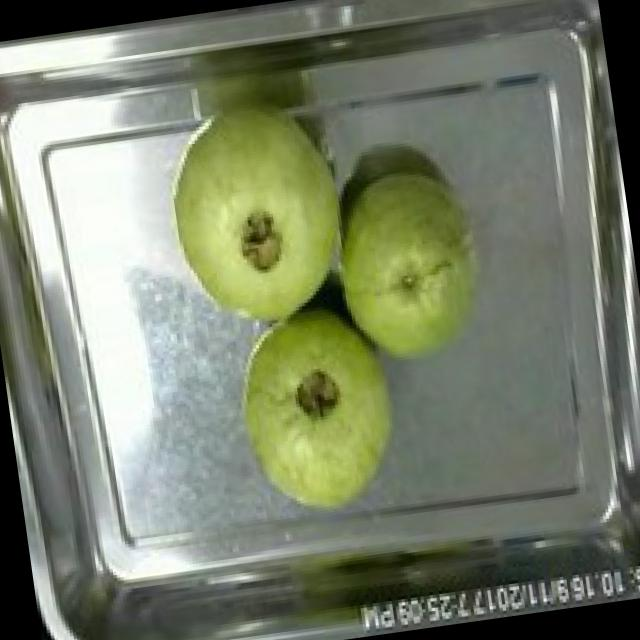Fruit: (149, 92, 372, 350), (218, 288, 422, 536), (310, 155, 510, 382)
